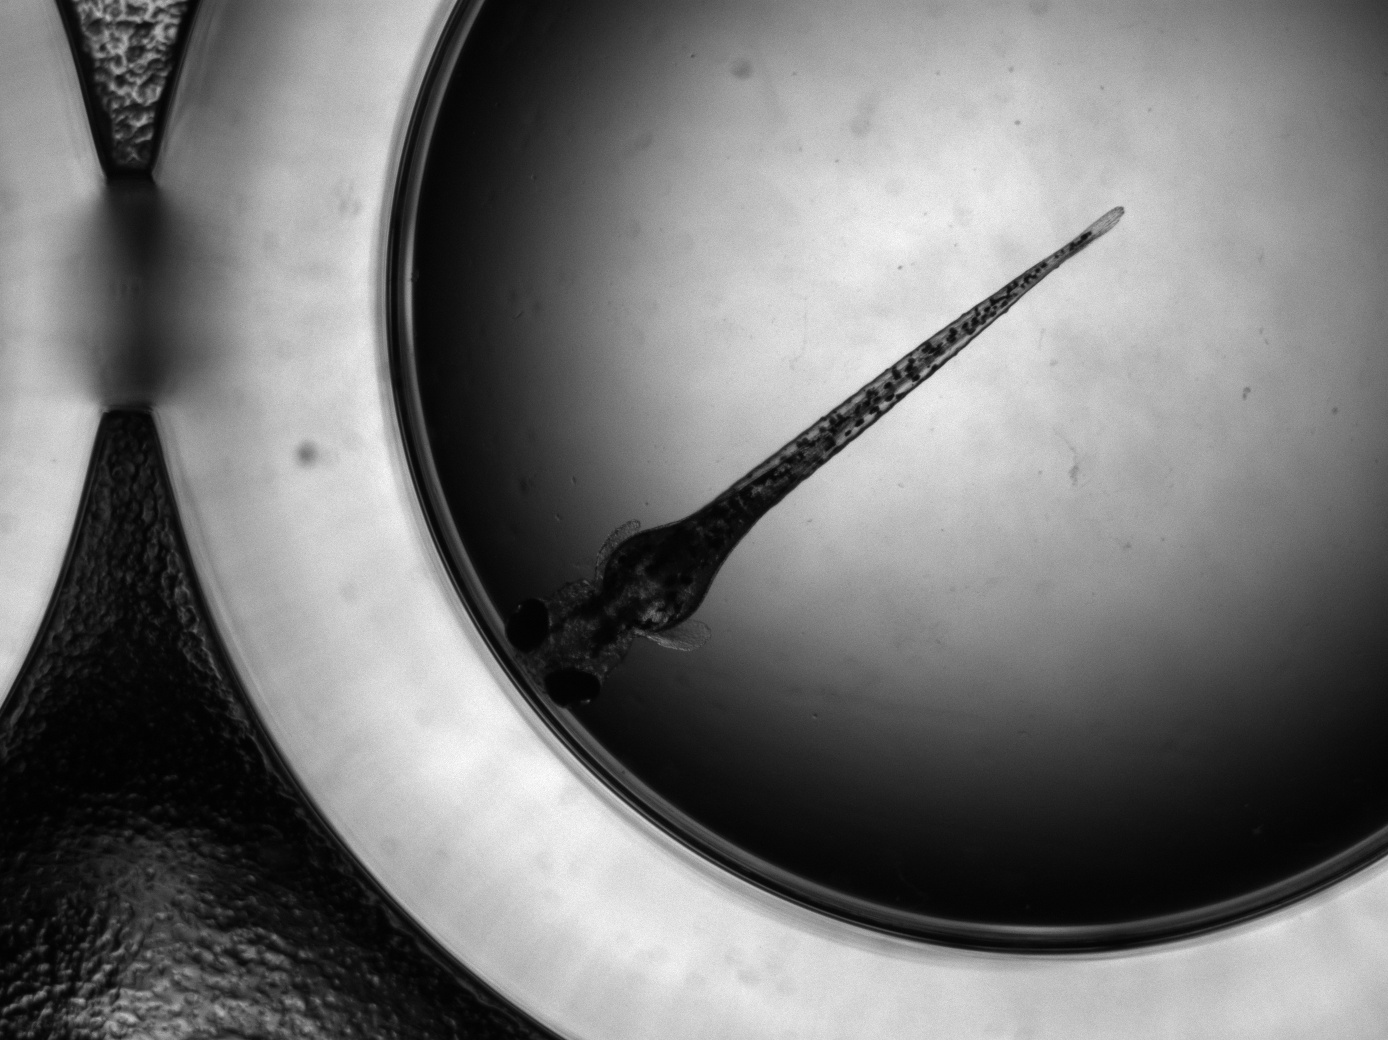embryo: (505, 204, 1122, 708)
eye: (505, 596, 549, 653), (544, 669, 600, 708)
yolksac: (597, 523, 715, 633)
